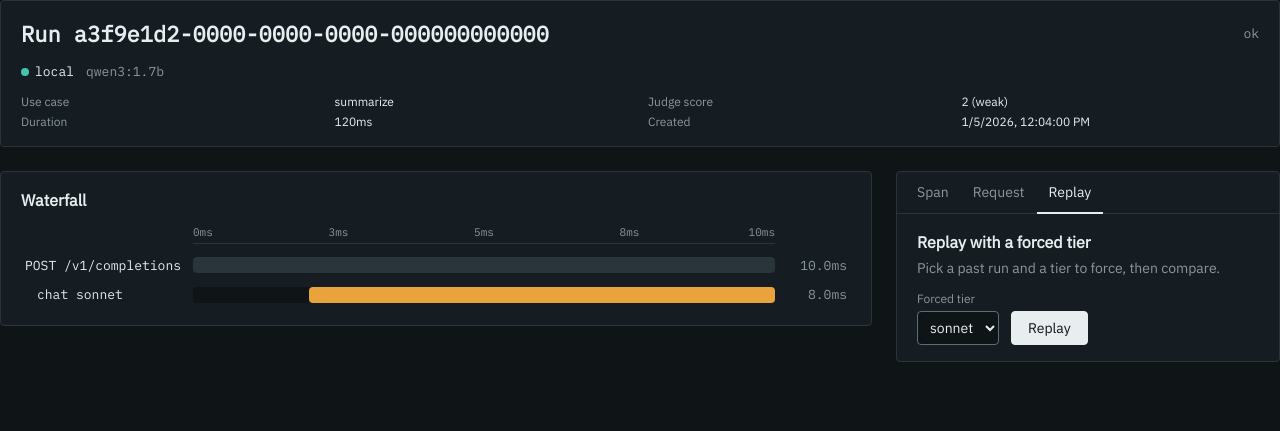
Test case: RunWaterfallPage › trace view › keeps the replay form mounted while another tab is showing
Expected: the text "chat sonnet" is shown, [37, 286, 123, 303]
Click the tab "Request" at (999, 192), box [961, 172, 1036, 214]
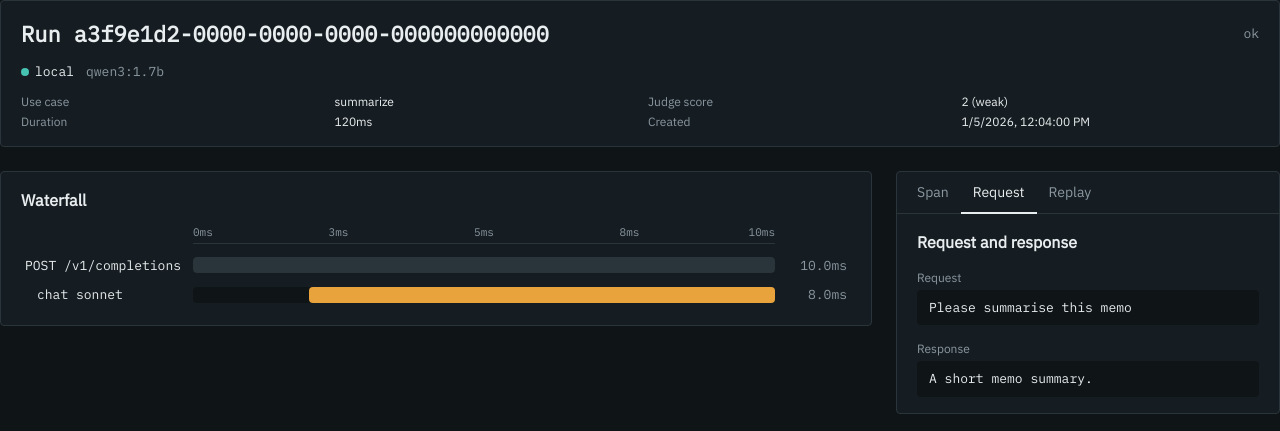
Click the tab "Replay" at (1070, 192), box [1036, 172, 1103, 214]
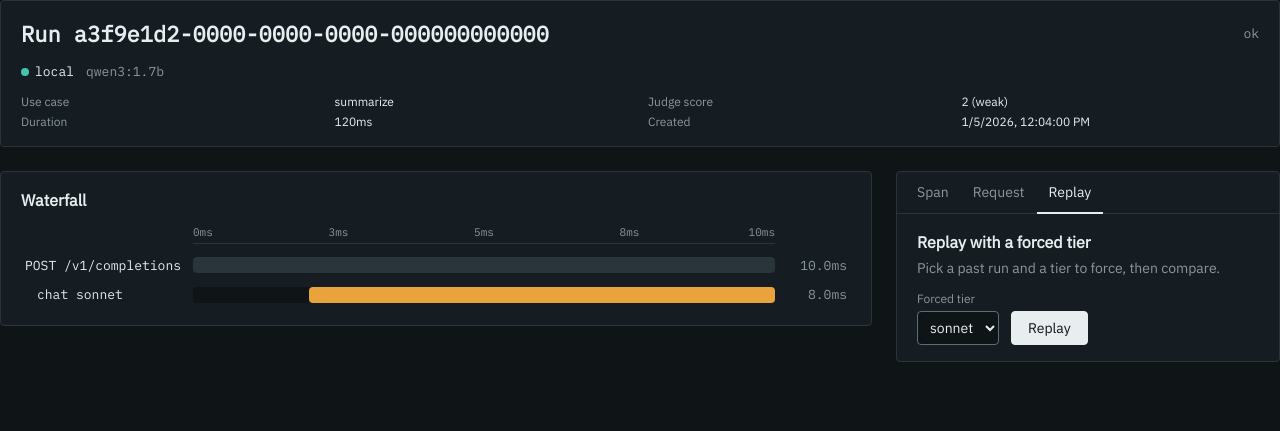
Now the button "Replay" is shown, box [1011, 310, 1088, 344]
